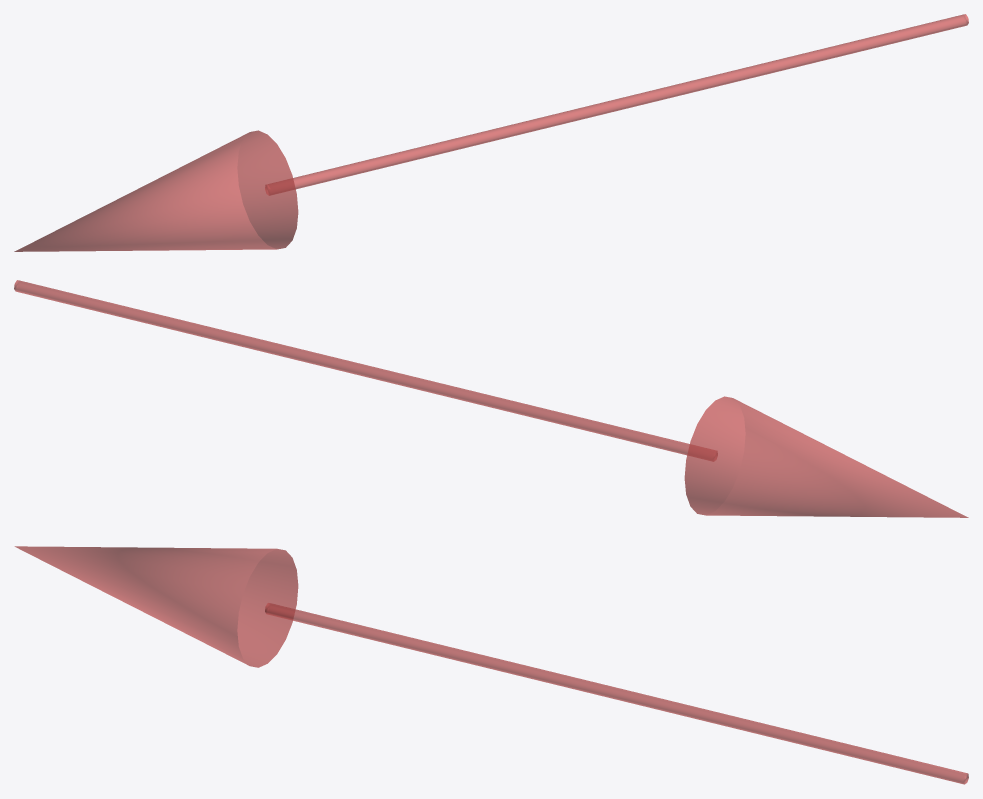
The model's file is gizmoMoveX.fbx.
The picture shows the model from 3 angles, top to bottom: view 1: azimuth 30°, elevation 25°; view 2: azimuth 150°, elevation 25°; view 3: azimuth 330°, elevation 25°; orthographic projection.
Visible parts, largest first — view 1: gizmoMoveX; view 2: gizmoMoveX; view 3: gizmoMoveX.
Part boxes in pixels (x1=…): gizmoMoveX: x1=14, y1=14, x2=968, y2=251; gizmoMoveX: x1=14, y1=280, x2=968, y2=517; gizmoMoveX: x1=14, y1=546, x2=968, y2=784.
Size of the model in its own units: 45 by 5 by 5.
